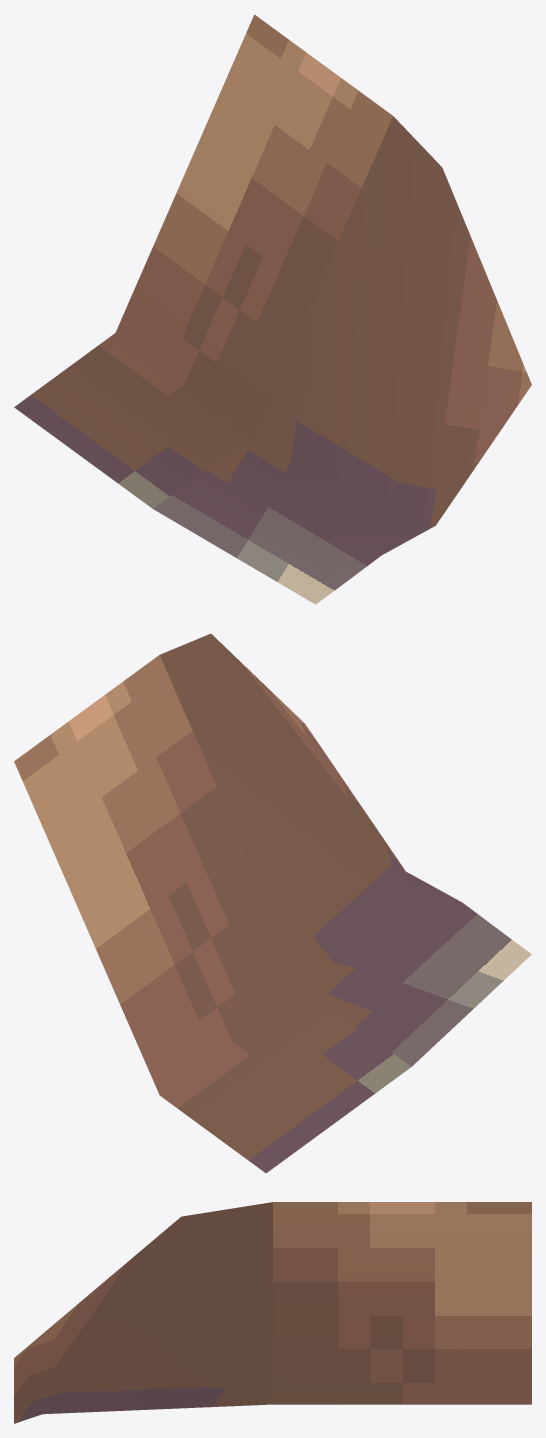
The picture shows the model from 3 angles, top to bottom: view 1: azimuth 30°, elevation 25°; view 2: azimuth 150°, elevation 25°; view 3: azimuth 270°, elevation 25°; orthographic projection. The views are drawn at different scales.
Bounding box in the file's own units: 0.5 × 0.6645 × 1.
2 materials, 2 textured.
